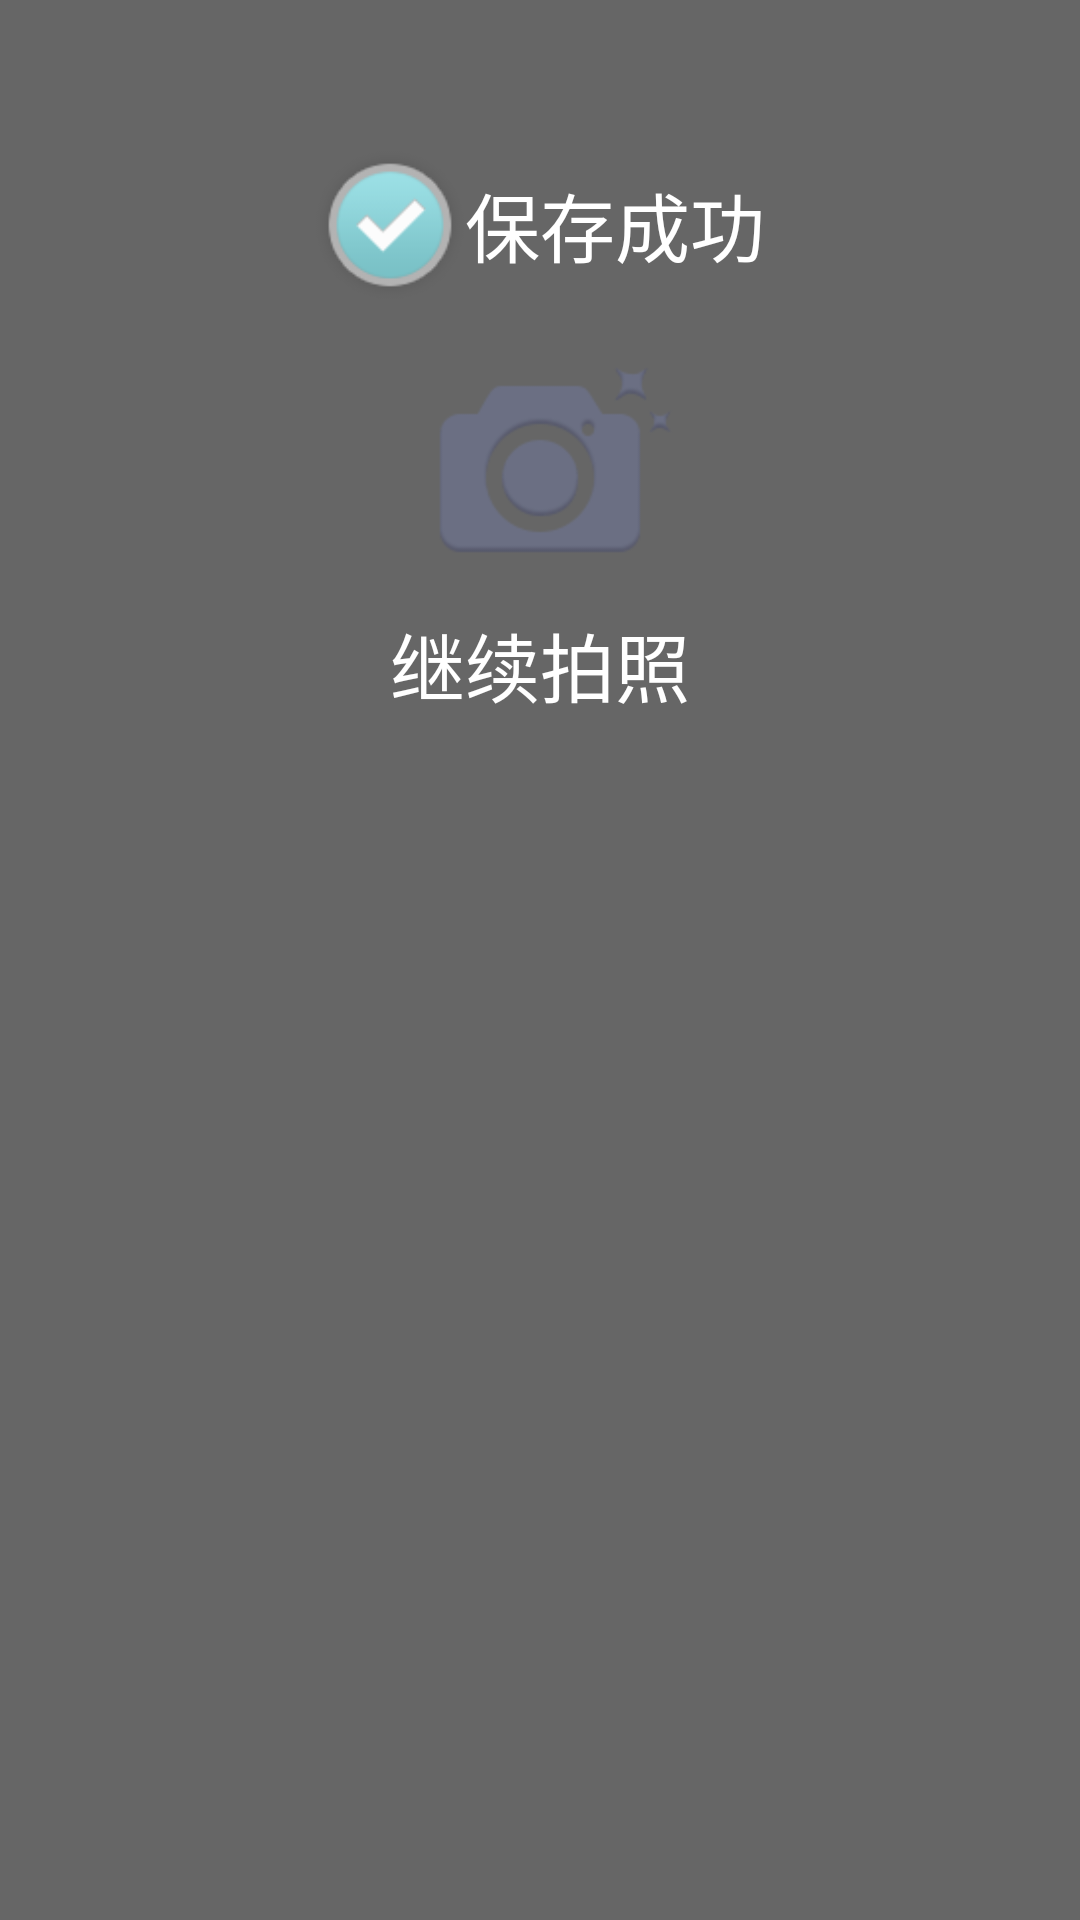

Icon click points for this 1080 × 1920 phone screenshot, format (x=x, y=y):
success: (x=390, y=225)
